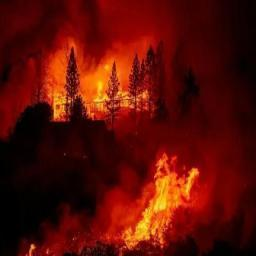Large fire: (42, 50, 168, 128), (134, 156, 200, 253)
Low smoke: (171, 4, 256, 152), (45, 166, 130, 252)
